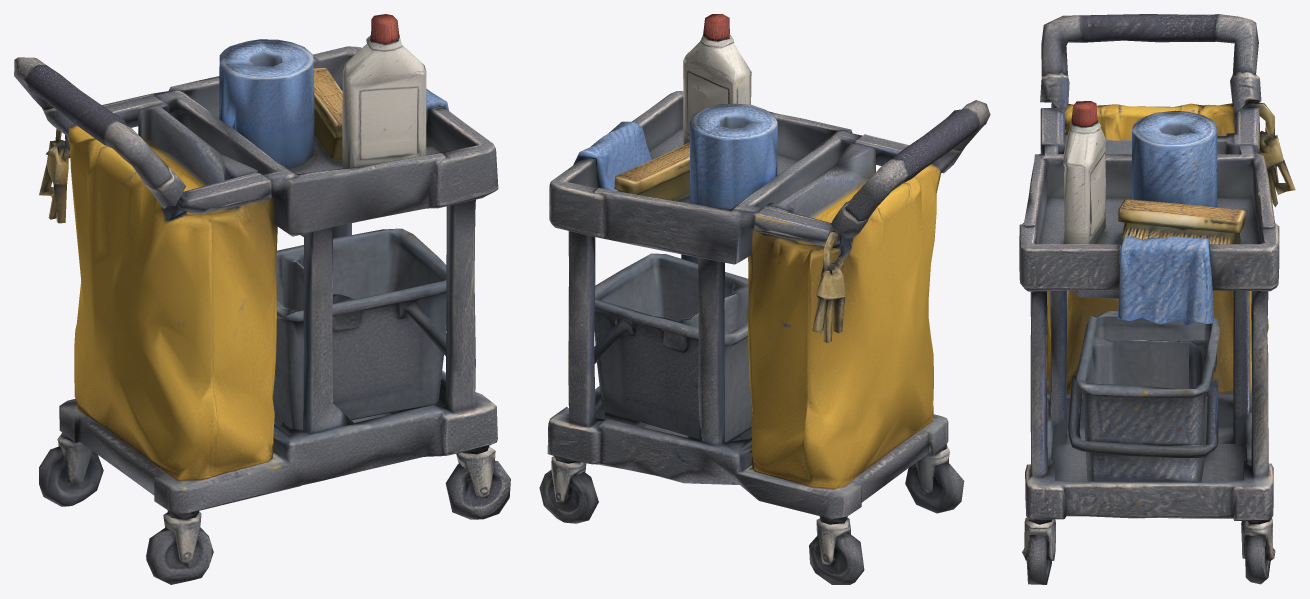
The model's file is CaretakerTrolley.fbx.
The picture shows the model from 3 angles, left to right: view 1: azimuth 30°, elevation 25°; view 2: azimuth 150°, elevation 25°; view 3: azimuth 270°, elevation 25°; orthographic projection. The views are drawn at different scales.
Visible parts, largest first — view 1: tripo_node_4ff38e22-799f-4723-8975-aac4c5f4bd9b; view 2: tripo_node_4ff38e22-799f-4723-8975-aac4c5f4bd9b; view 3: tripo_node_4ff38e22-799f-4723-8975-aac4c5f4bd9b.
Boxes of the visible parts, x1,y1,x2,y2 form: tripo_node_4ff38e22-799f-4723-8975-aac4c5f4bd9b: [14, 14, 510, 584]; tripo_node_4ff38e22-799f-4723-8975-aac4c5f4bd9b: [539, 14, 990, 584]; tripo_node_4ff38e22-799f-4723-8975-aac4c5f4bd9b: [1019, 14, 1295, 584].
Size of the model in its own units: 83.03 by 100 by 55.88.
Materials: 1 (1 with a texture image).
